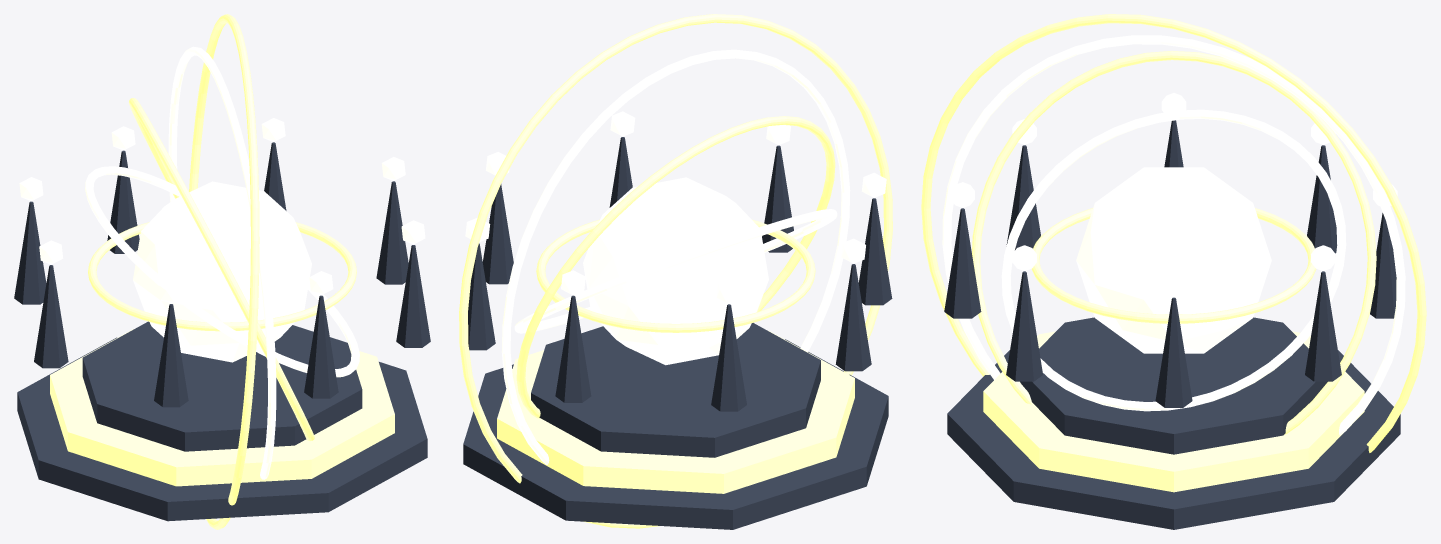
File: gpu-blender-v18.glb
3 renders of one model, left to right at view 1: azimuth 30°, elevation 25°; view 2: azimuth 150°, elevation 25°; view 3: azimuth 270°, elevation 25°, orthographic. The views are drawn at different scales.
Parts seen in each view (by area): view 1: Cylinder.002, Cylinder, SovereignCore_cwv-speed-engine, Cylinder.001, Torus.004, Torus.003, Torus.001, Torus.002, Torus, Cone.005, Cone.004, Cone.006 (+5 smaller); view 2: Cylinder.002, SovereignCore_cwv-speed-engine, Cylinder, Cylinder.001, Torus.004, Torus.003, Torus.002, Torus.001, Torus, Cone.004, Cone.003, Cone.002 (+5 smaller); view 3: SovereignCore_cwv-speed-engine, Cylinder.002, Cylinder, Cylinder.001, Torus.004, Torus.003, Torus.002, Torus.001, Torus, Cone.006, Cone.001, Cone.007 (+5 smaller).
Boxes of the visible parts, <box> form: Cylinder.002: <box>82,321,362,451</box>; Cylinder: <box>17,337,427,521</box>; SovereignCore_cwv-speed-engine: <box>133,181,311,362</box>; Cylinder.001: <box>50,329,394,486</box>; Torus.004: <box>189,14,259,529</box>; Torus.003: <box>168,46,276,479</box>; Torus.001: <box>85,166,359,377</box>; Torus.002: <box>129,98,314,440</box>; Torus: <box>88,222,356,331</box>; Cone.005: <box>154,304,188,407</box>; Cone.004: <box>34,265,68,368</box>; Cone.006: <box>304,295,338,398</box>; Cylinder.002: <box>531,323,820,457</box>; SovereignCore_cwv-speed-engine: <box>583,177,768,365</box>; Cylinder: <box>463,339,888,529</box>; Cylinder.001: <box>497,330,854,493</box>; Torus.004: <box>459,14,892,528</box>; Torus.003: <box>501,49,850,464</box>; Torus.002: <box>516,116,835,418</box>; Torus.001: <box>514,209,837,333</box>; Torus: <box>536,219,815,332</box>; Cone.004: <box>835,264,871,371</box>; Cone.003: <box>711,304,746,411</box>; Cone.002: <box>555,295,591,402</box>; SovereignCore_cwv-speed-engine: <box>1076,167,1271,353</box>; Cylinder.002: <box>1020,317,1327,454</box>; Cylinder: <box>947,350,1400,529</box>; Cylinder.001: <box>983,331,1364,492</box>; Torus.004: <box>921,14,1426,452</box>; Torus.003: <box>942,35,1405,435</box>; Torus.002: <box>972,50,1376,434</box>; Torus.001: <box>1001,109,1346,411</box>; Torus: <box>1031,208,1316,323</box>; Cone.006: <box>944,208,981,318</box>; Cone.001: <box>1305,271,1341,381</box>; Cone.007: <box>1006,271,1042,381</box>.
Bounding box in the file's own units: 4.41 × 5.33 × 4.9.
